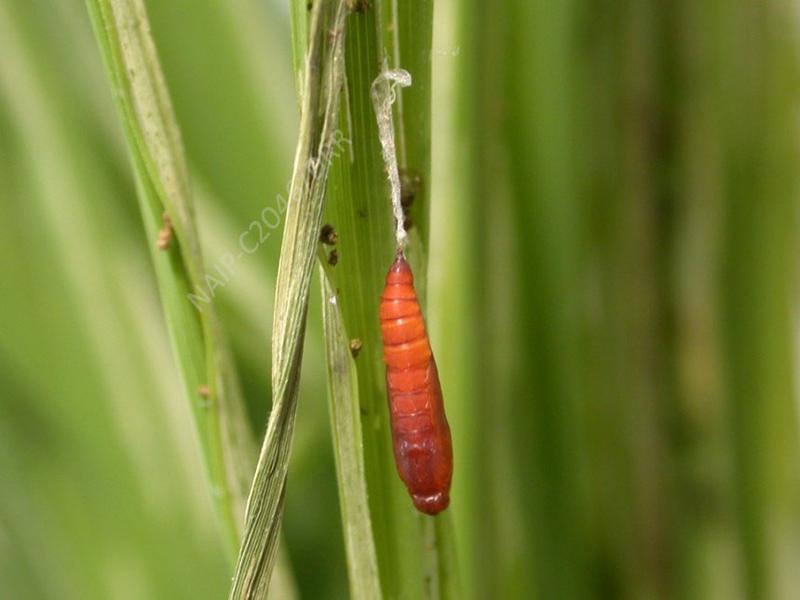Leaf_folder: (367, 241, 470, 520)
